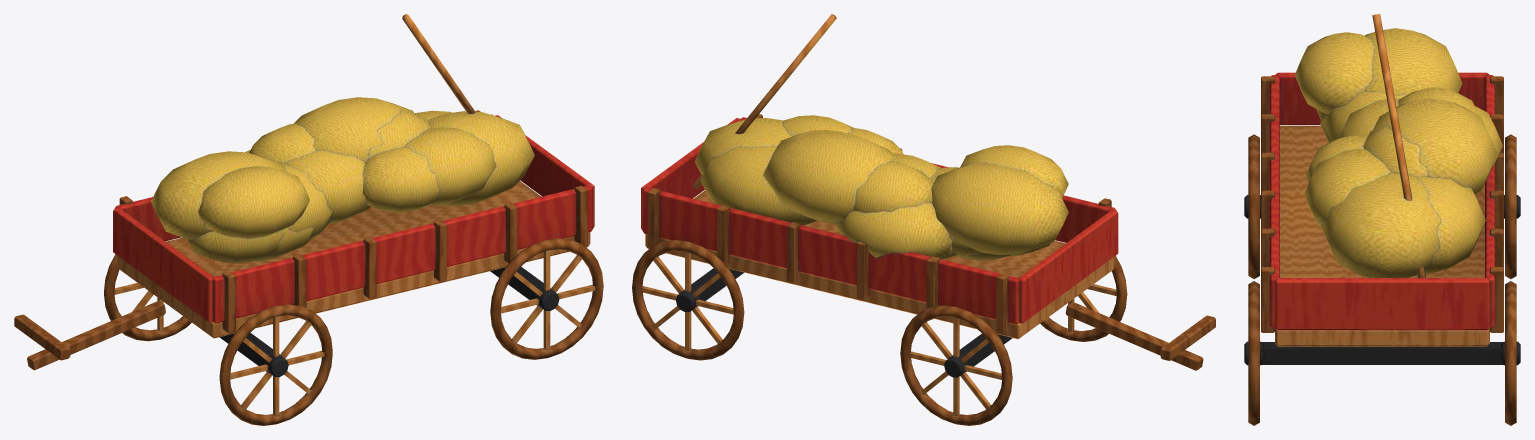
File: hay_wagon.glb
The picture shows the model from 3 angles, left to right: view 1: azimuth 30°, elevation 25°; view 2: azimuth 150°, elevation 25°; view 3: azimuth 270°, elevation 25°; orthographic projection. The views are drawn at different scales.
Visible parts, largest first — view 1: hay_wagon; view 2: hay_wagon; view 3: hay_wagon.
Part boxes in pixels (bbox=[...]): hay_wagon: bbox=[14, 14, 603, 425]; hay_wagon: bbox=[632, 14, 1215, 425]; hay_wagon: bbox=[1244, 14, 1520, 425].
Size of the model in its own units: 1.91 by 1.14 by 0.797.
1 material, 1 textured.
